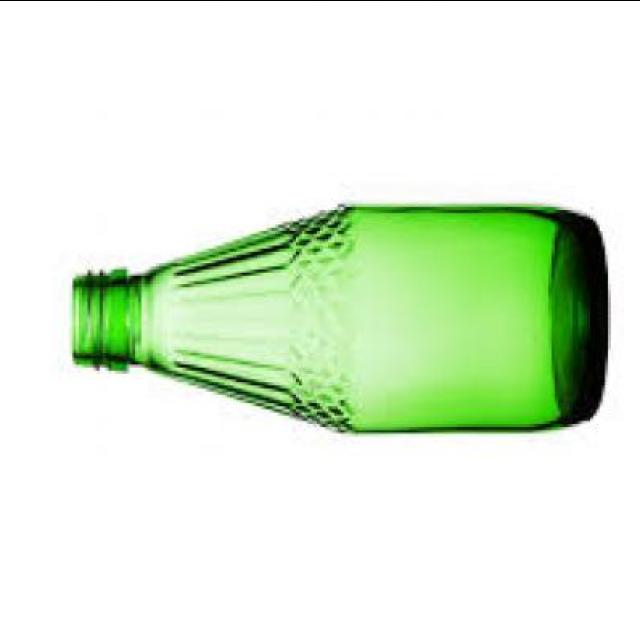kaca: (71, 202, 608, 430)
